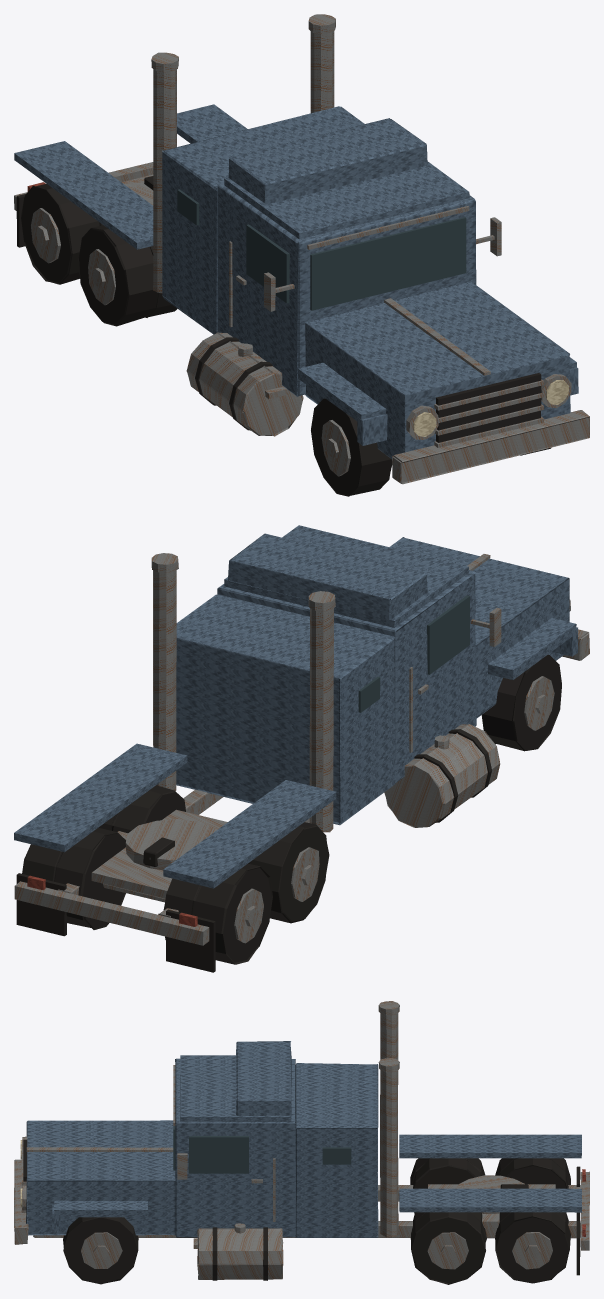
The model's file is semi_rig.glb.
3 views of the same model, one above another, from view 1: azimuth 30°, elevation 25°; view 2: azimuth 150°, elevation 25°; view 3: azimuth 270°, elevation 25° (orthographic). The views are drawn at different scales.
Visible parts, largest first — view 1: SemiRig; view 2: SemiRig; view 3: SemiRig.
Part boxes in pixels (box(x1,y1,x2,y2)): SemiRig: box(14, 14, 589, 496); SemiRig: box(14, 525, 589, 972); SemiRig: box(14, 1001, 589, 1284).
Bounding box in the file's own units: 2.75 × 2.92 × 7.08.
Materials: 6 (4 with a texture image).
